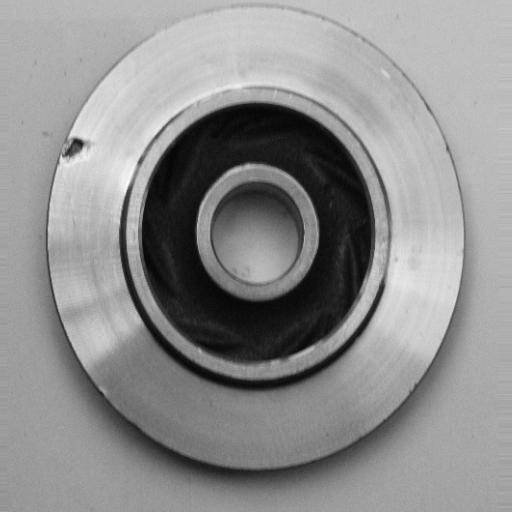crack: (47, 124, 102, 174)
unpolished_casting: (47, 5, 467, 478)
